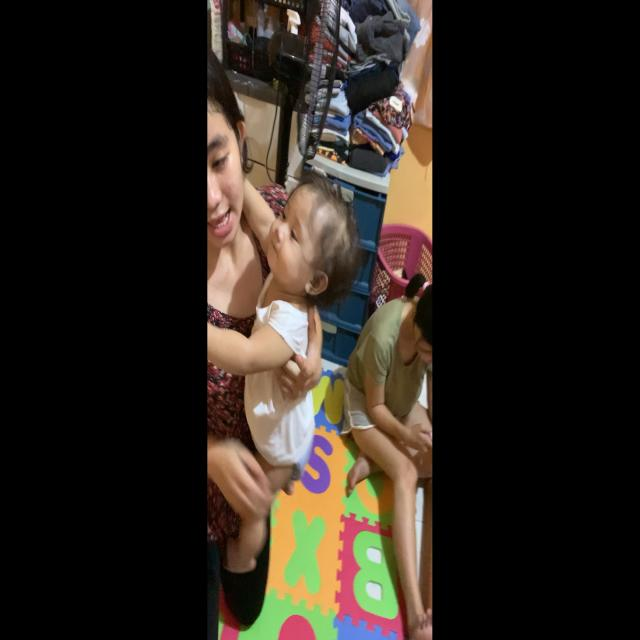adult: (205, 43, 323, 640), (341, 270, 434, 640)
child: (207, 175, 362, 573)
